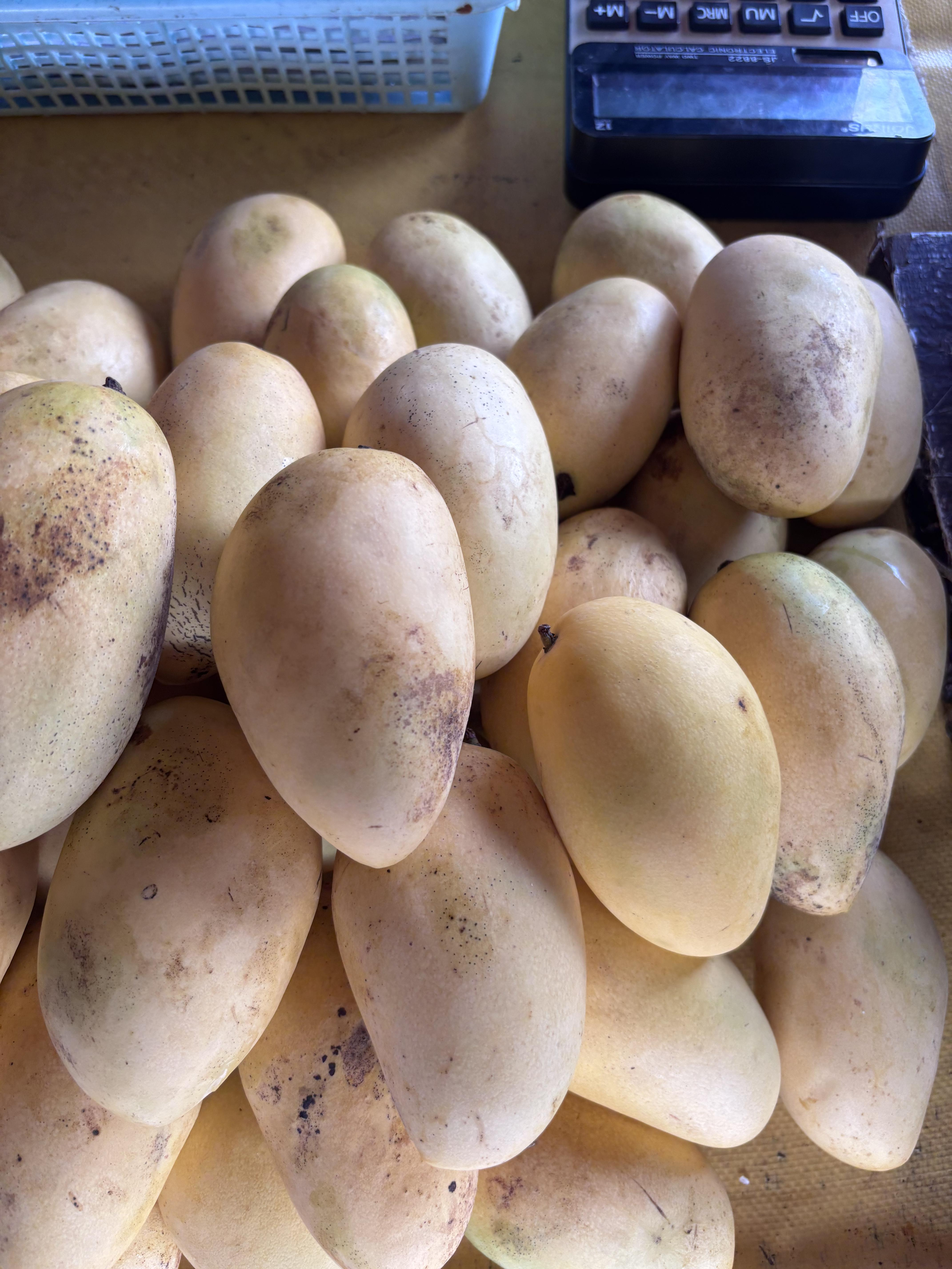mango: (211, 448, 475, 867), (528, 597, 780, 956), (680, 235, 882, 517)
occluded: (38, 696, 321, 1126), (332, 744, 586, 1168), (239, 879, 476, 1269), (0, 381, 176, 850), (690, 553, 904, 916), (344, 343, 558, 678), (0, 914, 198, 1269), (754, 854, 948, 1170), (148, 342, 324, 685), (570, 875, 780, 1148), (467, 1093, 734, 1269), (507, 277, 681, 519), (159, 1070, 338, 1269), (808, 528, 947, 766), (171, 193, 346, 365), (809, 278, 923, 528), (264, 263, 417, 447), (368, 211, 532, 359), (551, 192, 723, 321), (0, 280, 168, 406), (536, 507, 687, 627), (482, 633, 540, 790), (112, 1204, 181, 1269), (0, 254, 24, 310), (0, 369, 40, 395)
